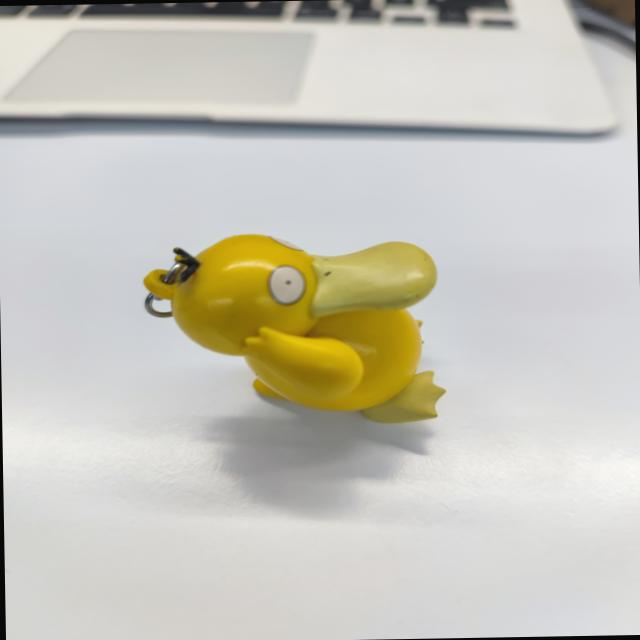Duck: (113, 210, 480, 440)
